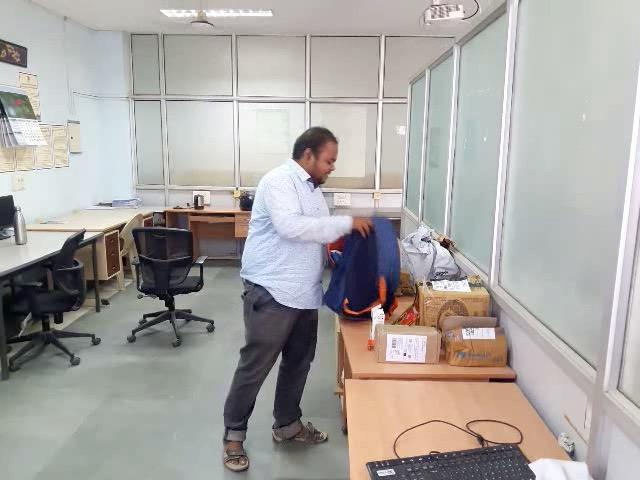shoplifting: (229, 186, 437, 406)
